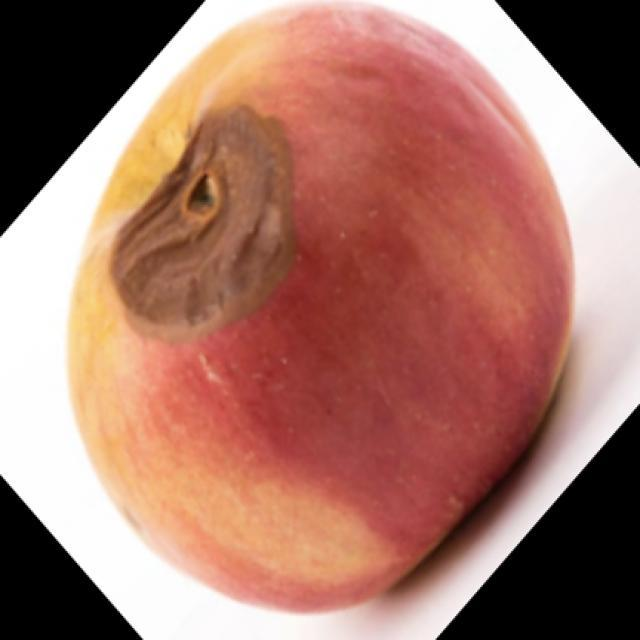Rotten: (79, 14, 578, 594)
